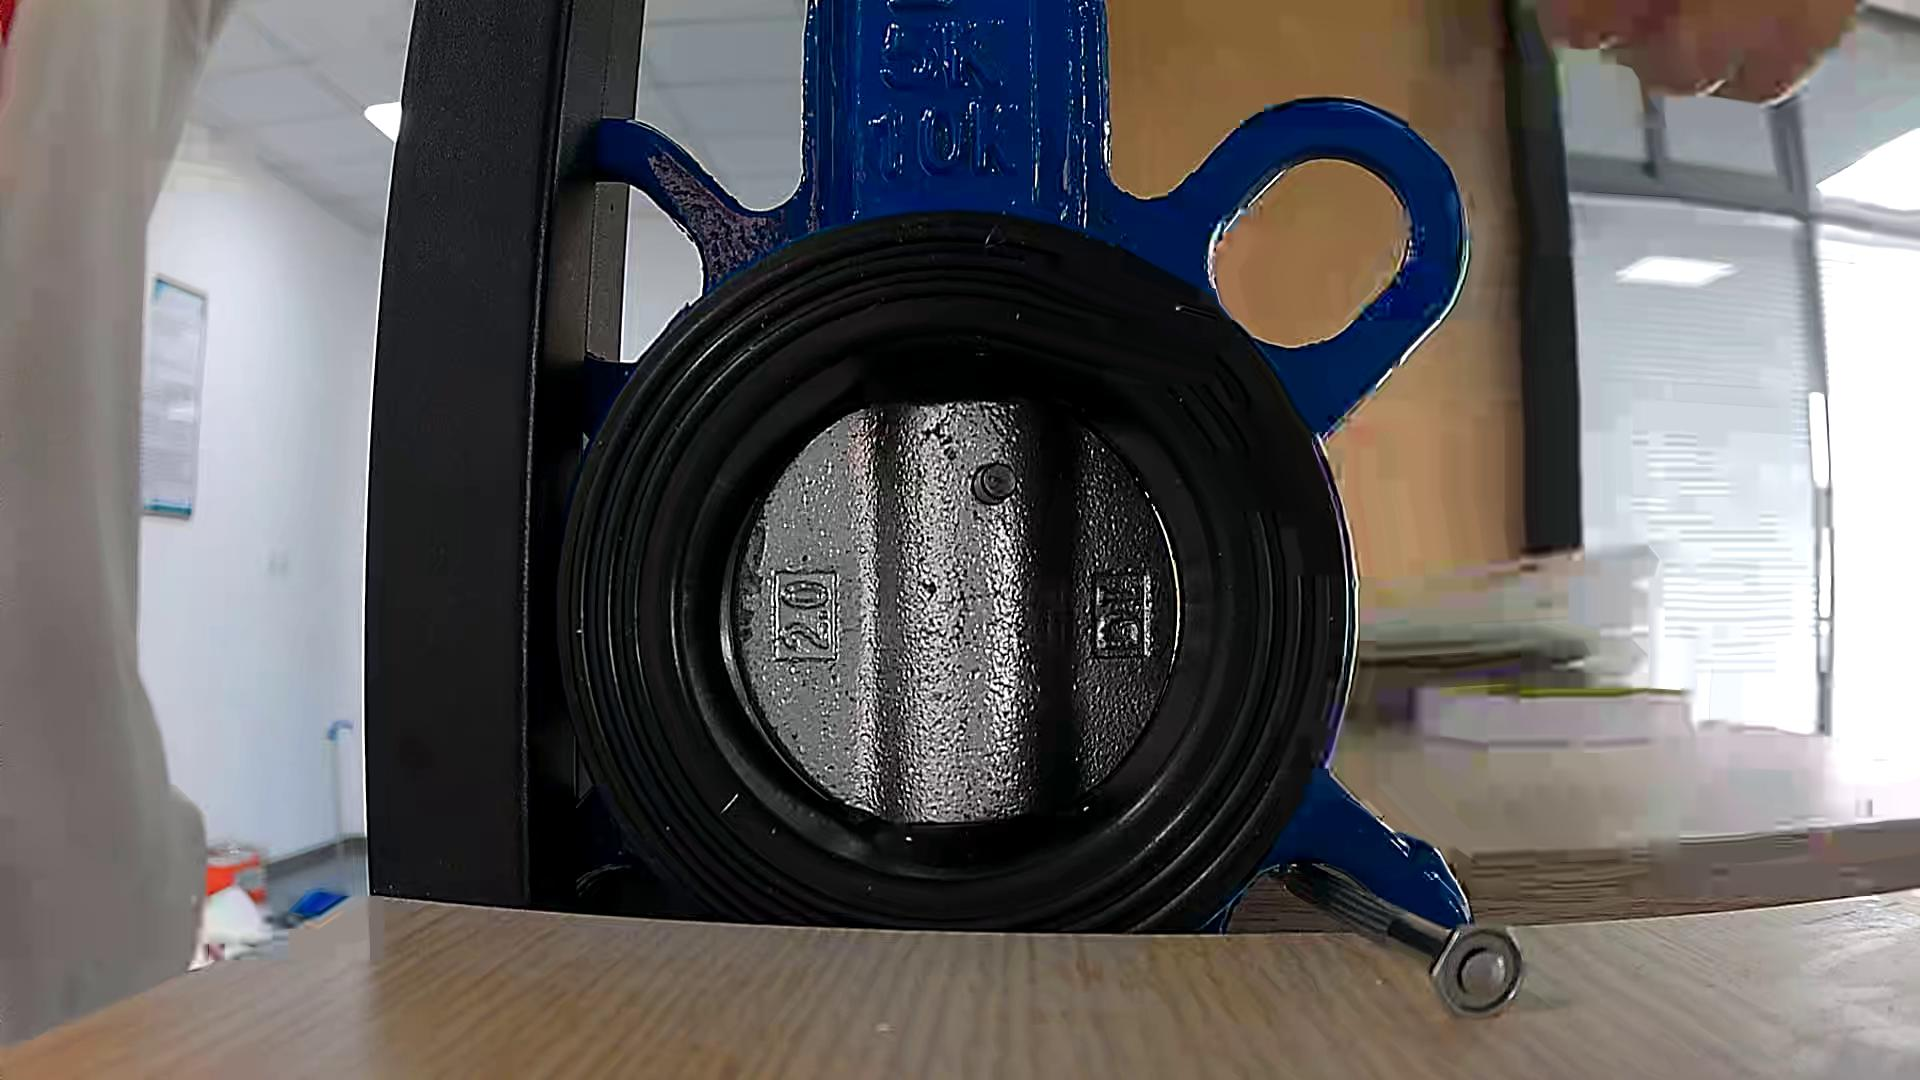valve: (731, 401, 1176, 825)
